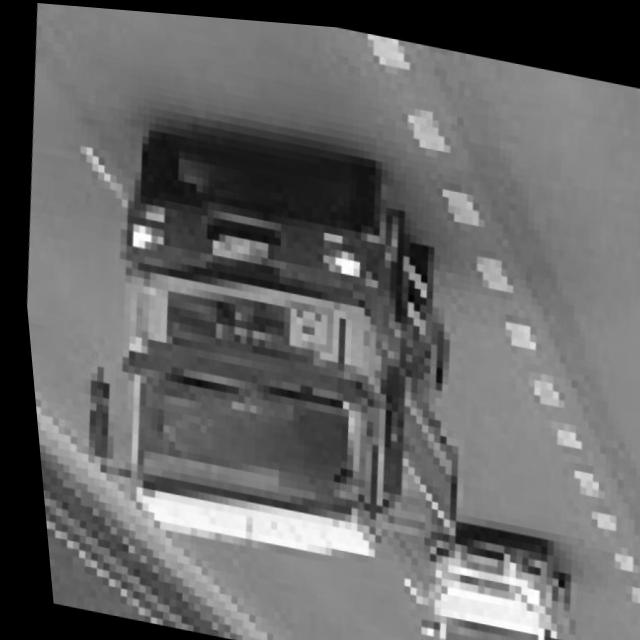truck: (38, 150, 456, 590)
